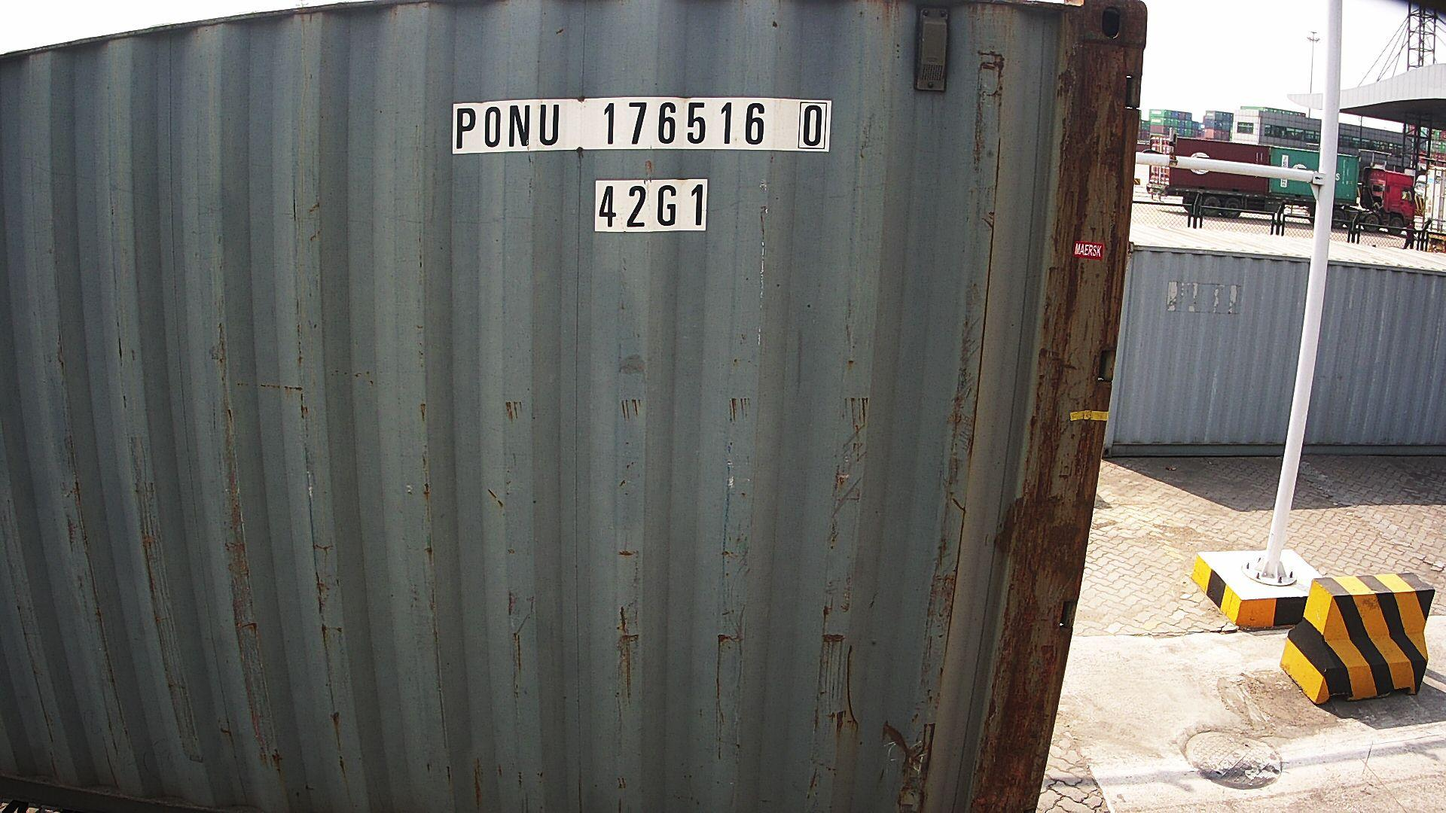container-numbers: (445, 97, 836, 154), (589, 178, 714, 236)
